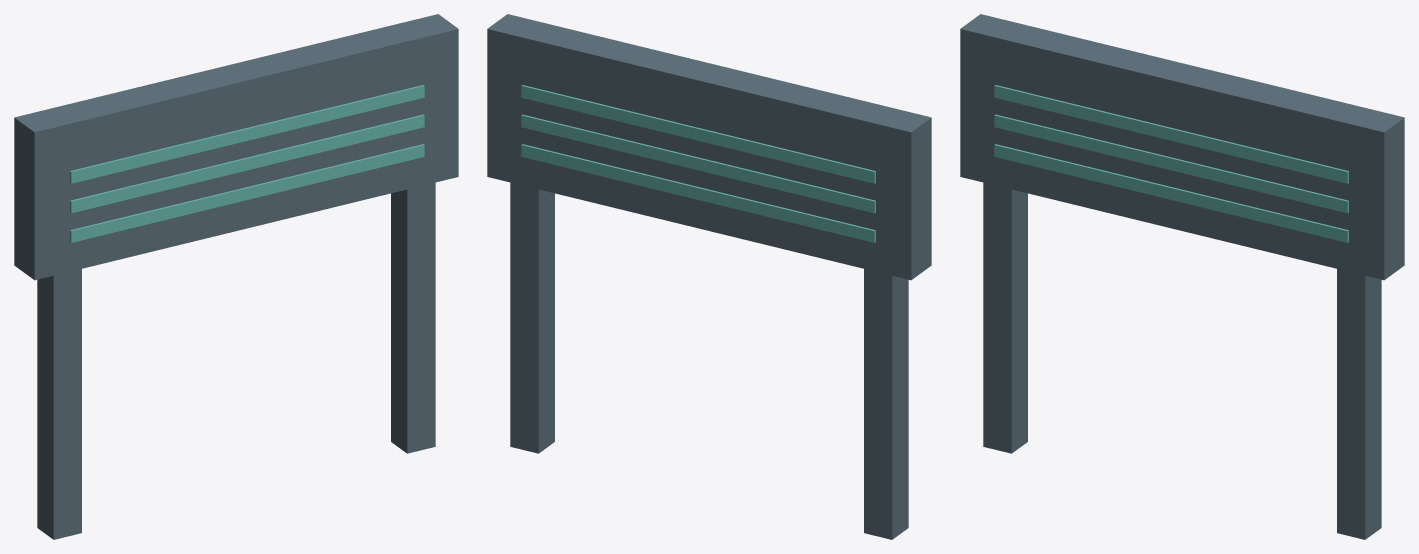
Rendered from voxel-city-districts-departure-board-9f6c899c__24833.glb.
3 renders of one model, left to right at view 1: azimuth 30°, elevation 25°; view 2: azimuth 150°, elevation 25°; view 3: azimuth 330°, elevation 25°, orthographic.
Parts seen in each view (by area): view 1: departure-board-dark, departure-board-accent; view 2: departure-board-dark, departure-board-accent; view 3: departure-board-dark, departure-board-accent.
Part boxes in pixels (left/top/right/bottom): departure-board-dark: left=14, top=14, right=458, bottom=539; departure-board-accent: left=70, top=85, right=424, bottom=242; departure-board-dark: left=487, top=14, right=931, bottom=539; departure-board-accent: left=521, top=85, right=875, bottom=242; departure-board-dark: left=960, top=14, right=1404, bottom=539; departure-board-accent: left=994, top=85, right=1348, bottom=242.
Size of the model in its own units: 3 by 2.8 by 0.2799.
